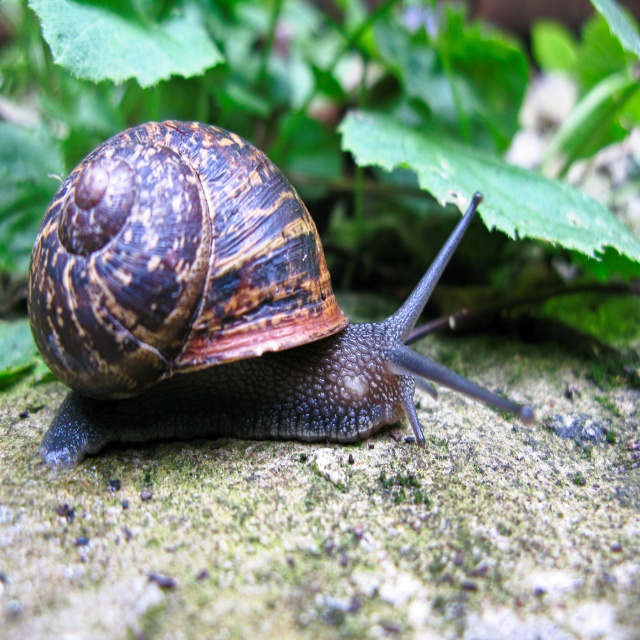Snail: (27, 120, 535, 471)
